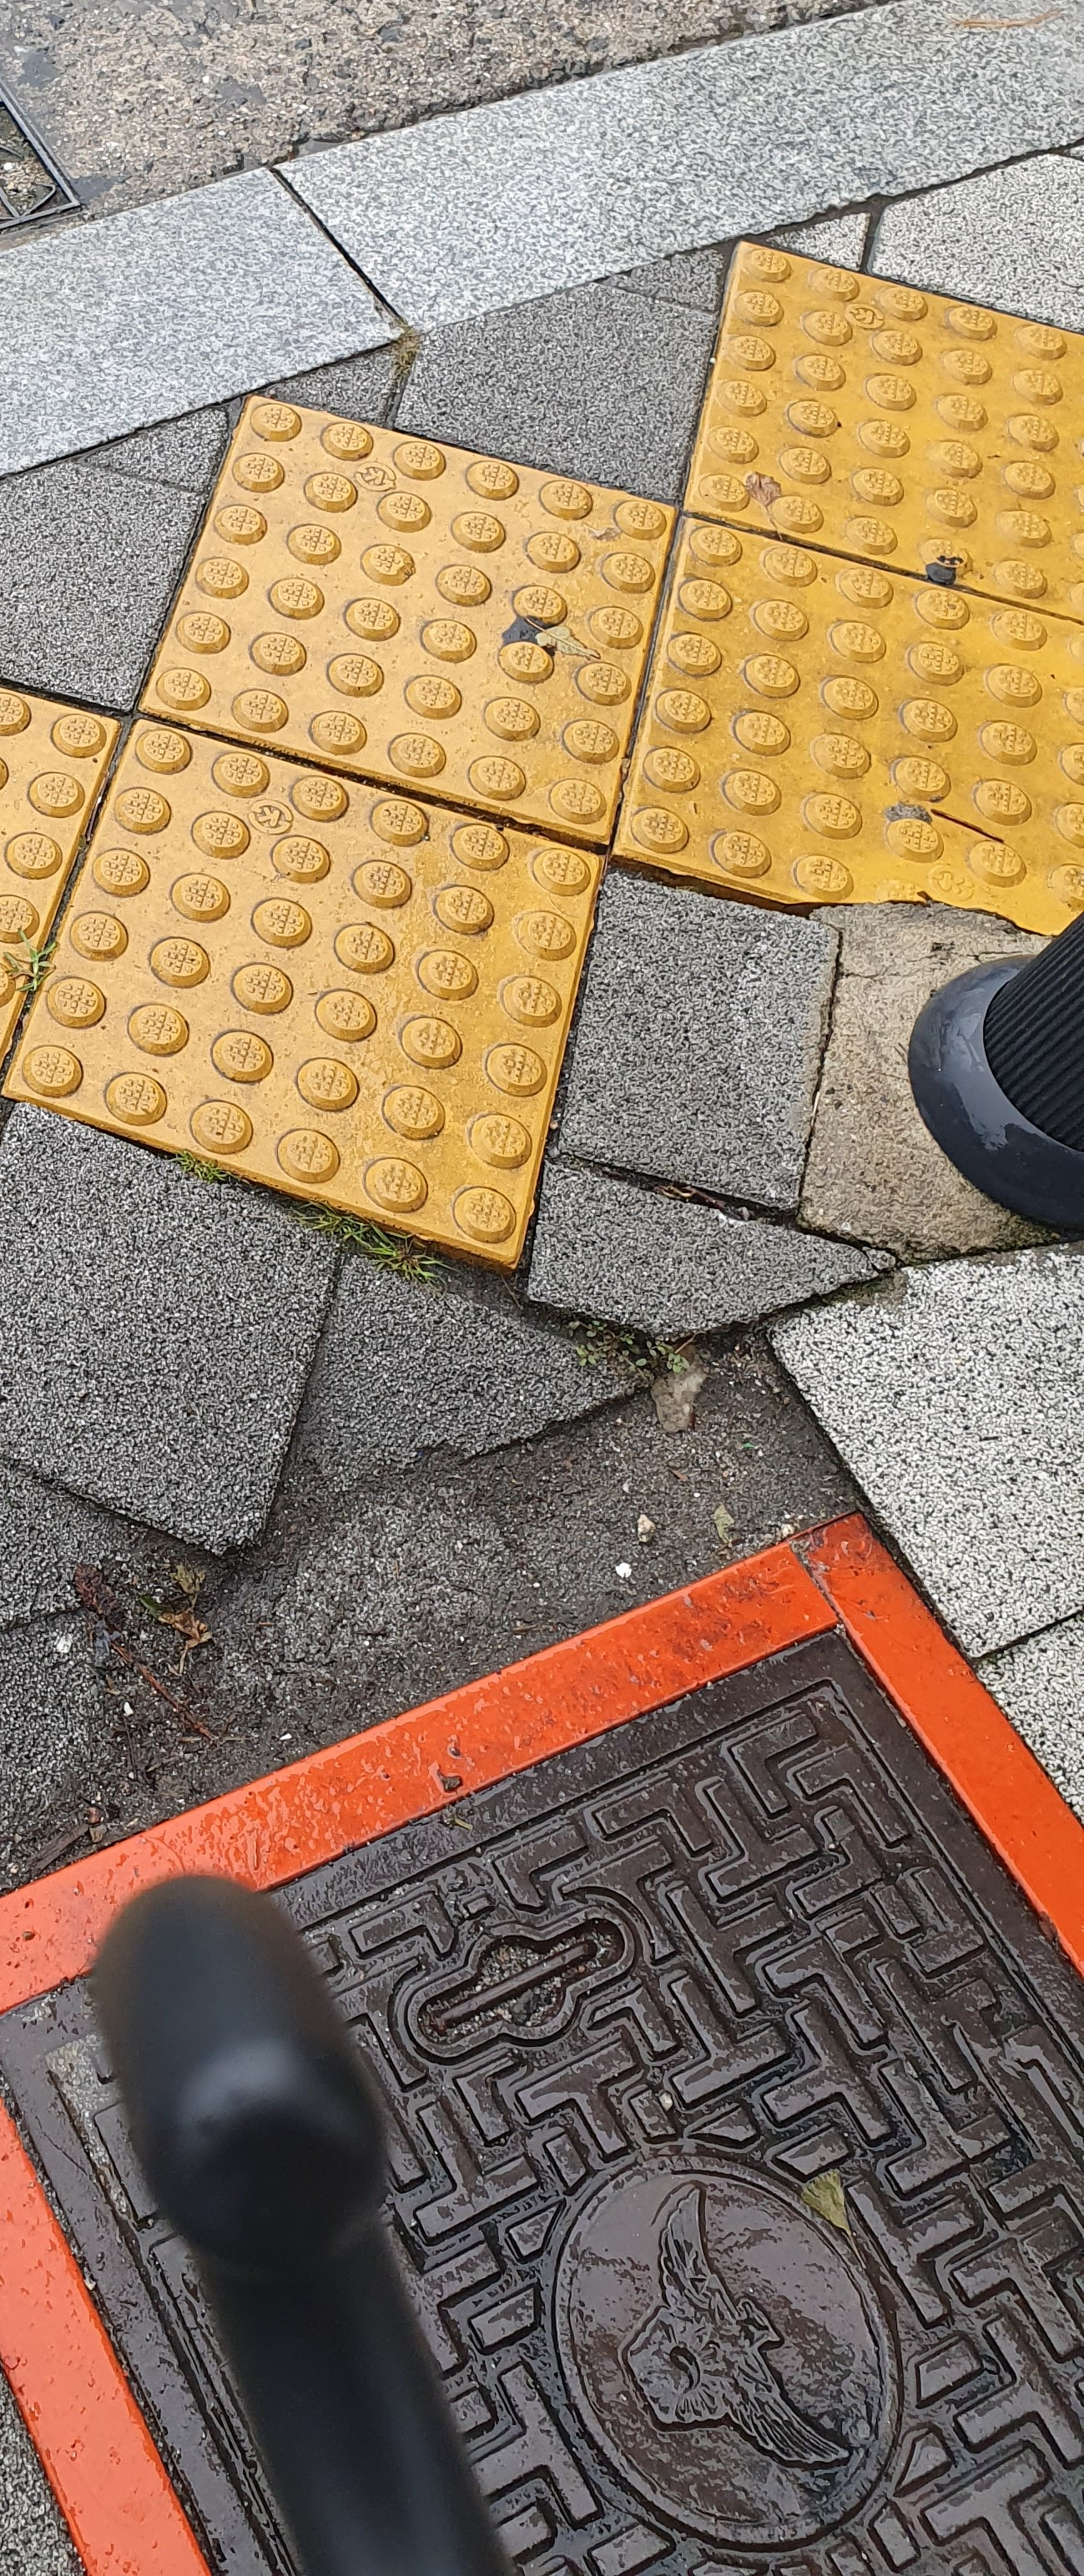warningBlock: (72, 734, 621, 1272), (174, 406, 662, 812), (639, 542, 1084, 958), (682, 233, 1084, 659)
